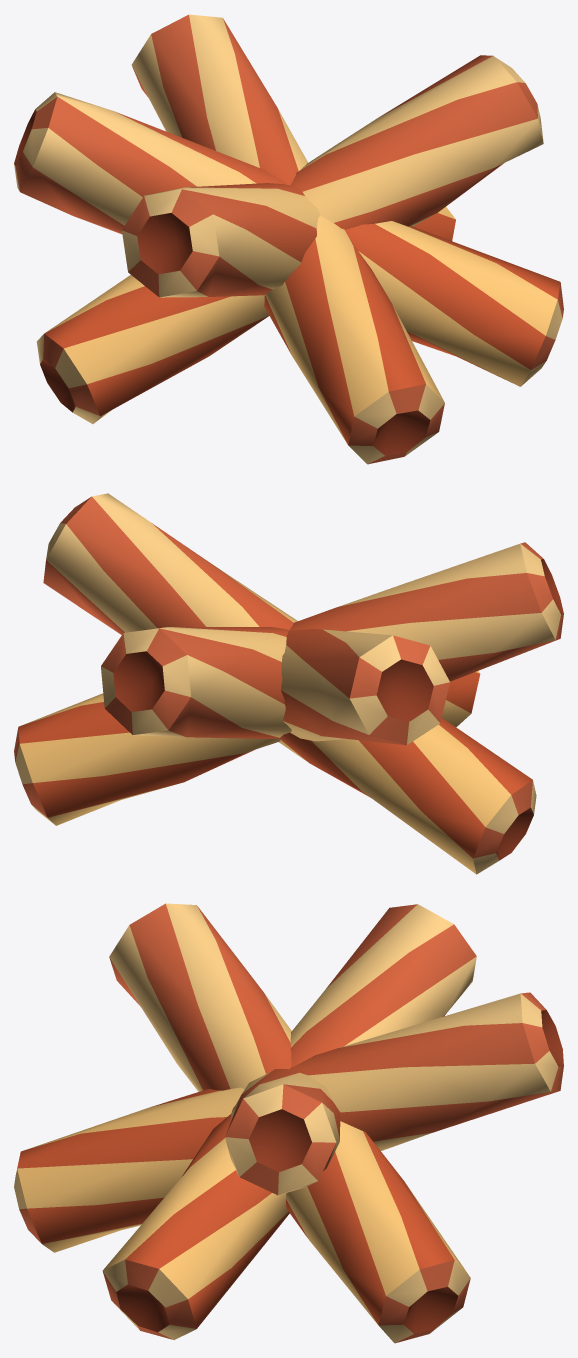
Rendered from Fireplace_firewood_001.fbx.
3 renders of one model, top to bottom at view 1: azimuth 30°, elevation 25°; view 2: azimuth 150°, elevation 25°; view 3: azimuth 270°, elevation 25°, orthographic.
Parts seen in each view (by area): view 1: Fireplace_firewood_001; view 2: Fireplace_firewood_001; view 3: Fireplace_firewood_001.
Boxes of the visible parts, left/top/right/bottom form: Fireplace_firewood_001: left=14, top=14, right=563, bottom=464; Fireplace_firewood_001: left=14, top=493, right=563, bottom=874; Fireplace_firewood_001: left=14, top=903, right=563, bottom=1343.
Bounding box in the file's own units: 0.6626 × 0.3558 × 0.6613.
